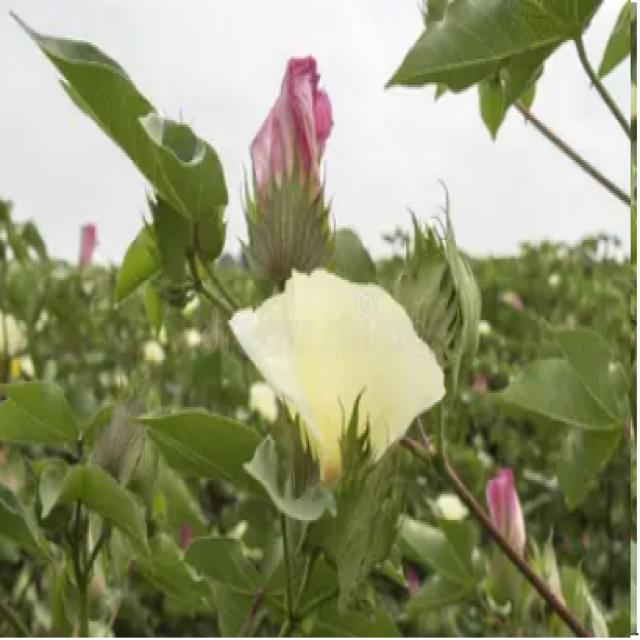Cotton Blossom: (238, 268, 428, 548), (232, 54, 352, 298), (483, 468, 532, 593)
Cotton Bud: (400, 199, 500, 337)
